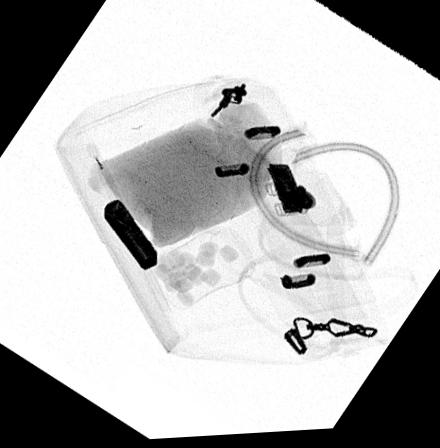Lighter: (103, 198, 157, 271)
